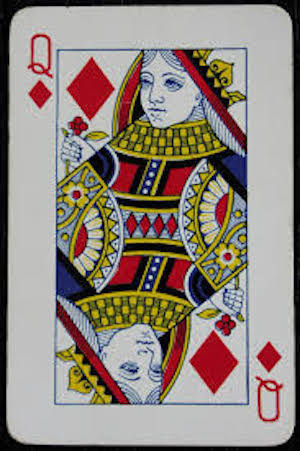QueenOfDiamonds: (5, 5, 297, 451)
